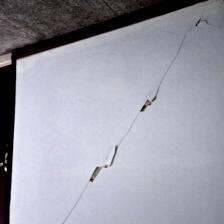Medium: (68, 44, 198, 221)
